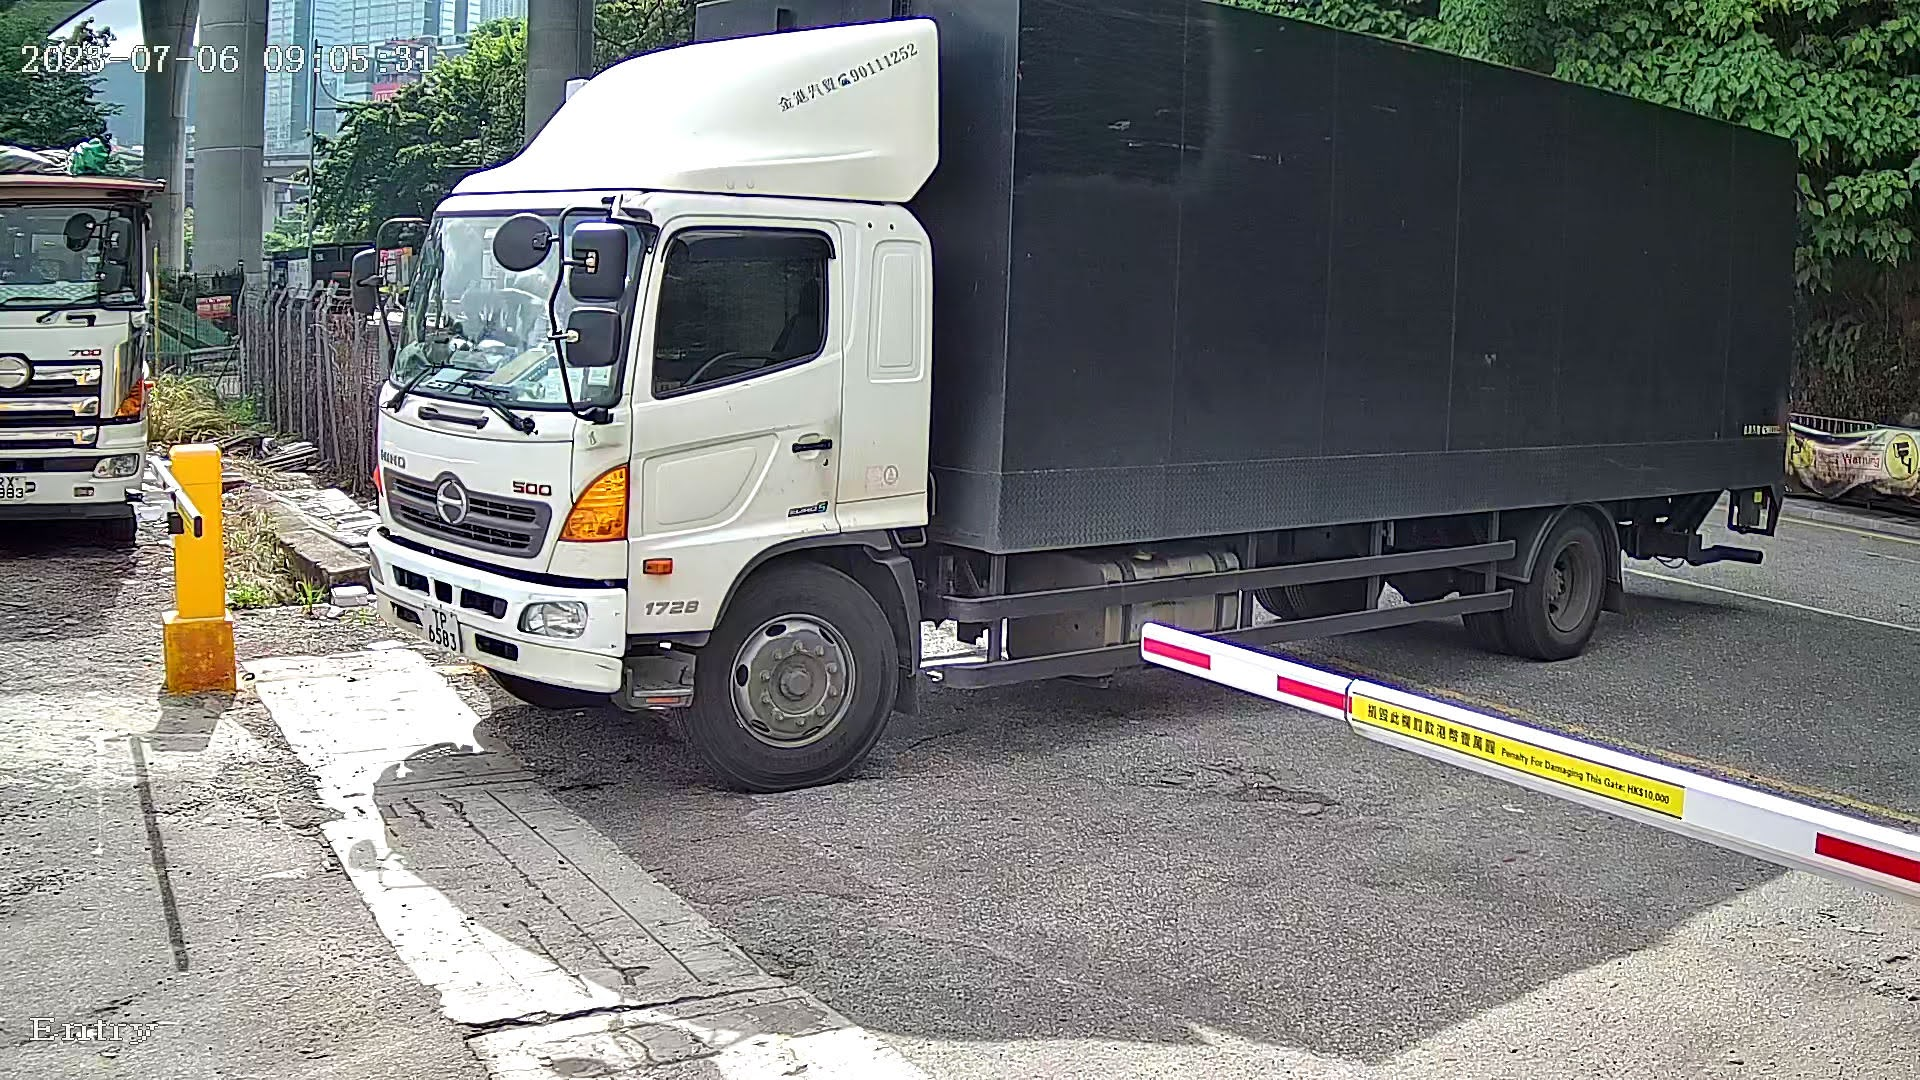truck: (336, 1, 1817, 781)
